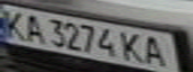2: (60, 19, 81, 52)
3: (42, 16, 66, 48)
4: (96, 26, 121, 59)
7: (78, 22, 96, 54)
A: (139, 34, 172, 69), (18, 11, 48, 44)
K: (118, 30, 148, 64), (0, 7, 30, 39)
